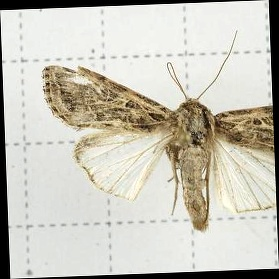Spodoptera litura: (43, 33, 273, 236)
